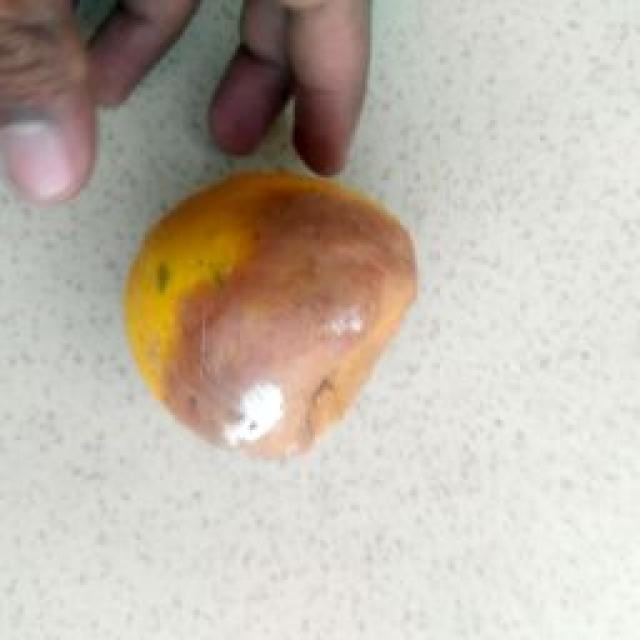Bad_Orange: (125, 171, 416, 457)
